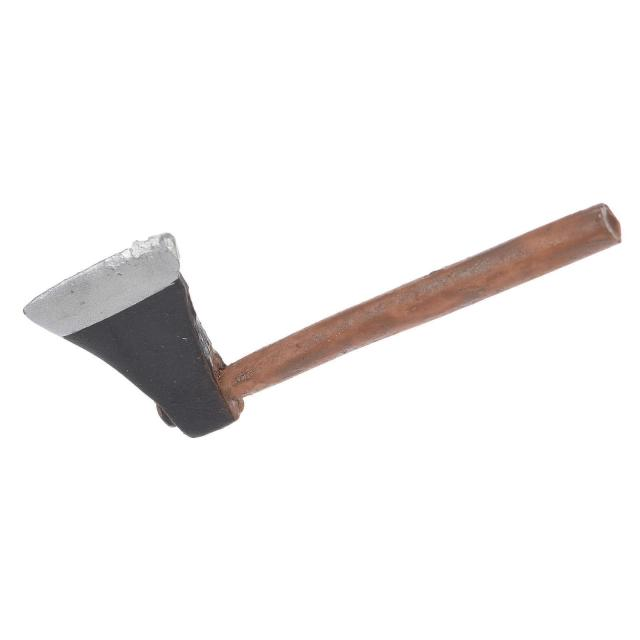Kapak: (46, 200, 636, 464)
